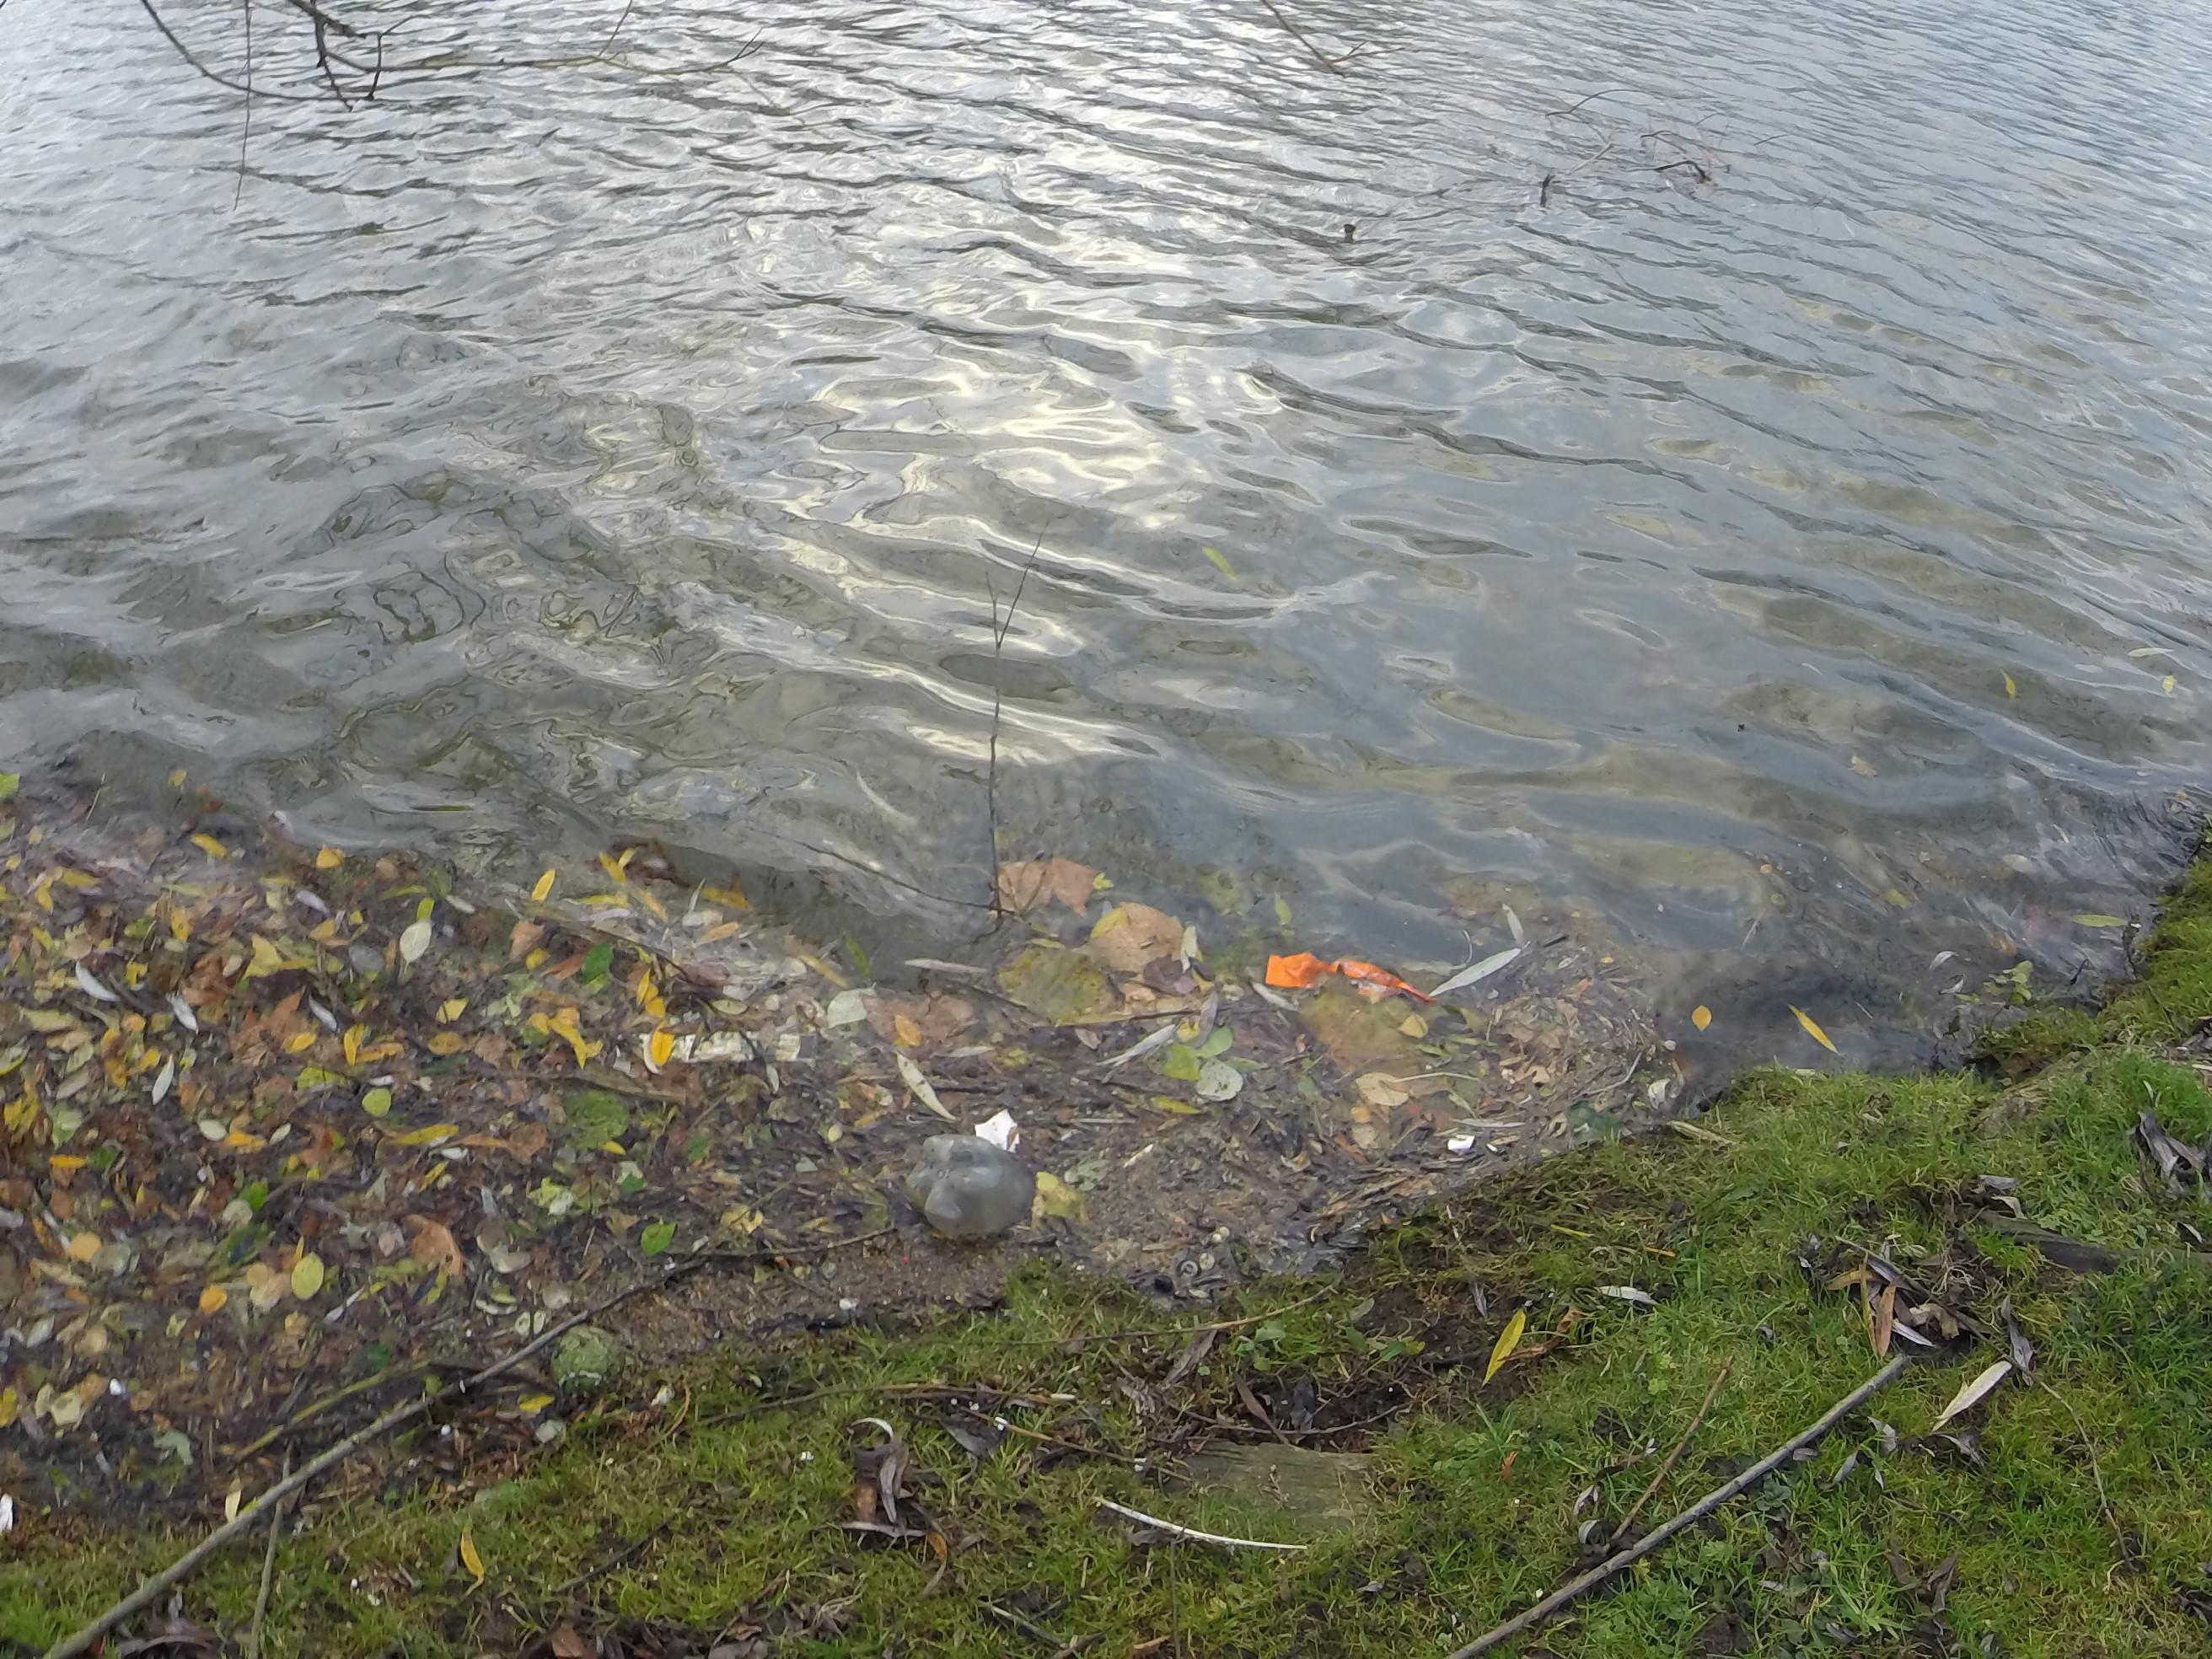Trash: (1263, 938, 1467, 1018), (899, 1126, 1033, 1244)
